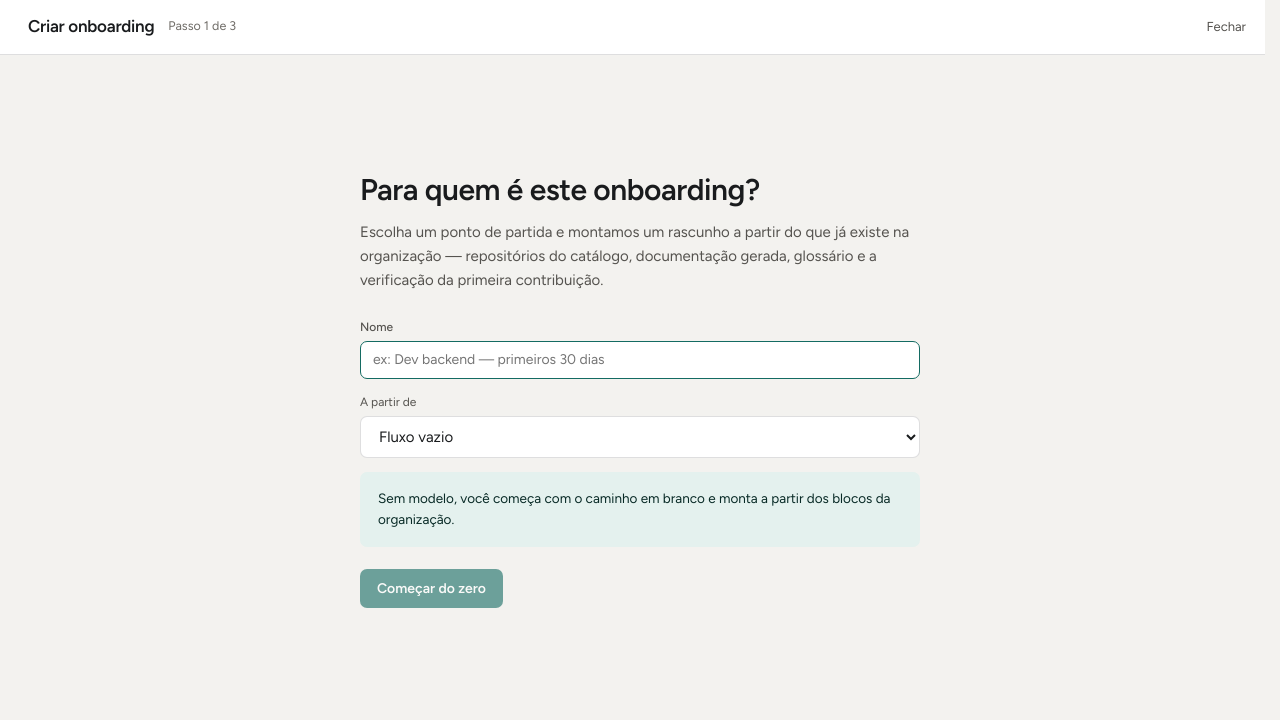
OnboardingComposer › adds a step from the block library
In the field labelled "Nome": (640,360) [360,341,920,379], type "Dev backend — 30 dias"
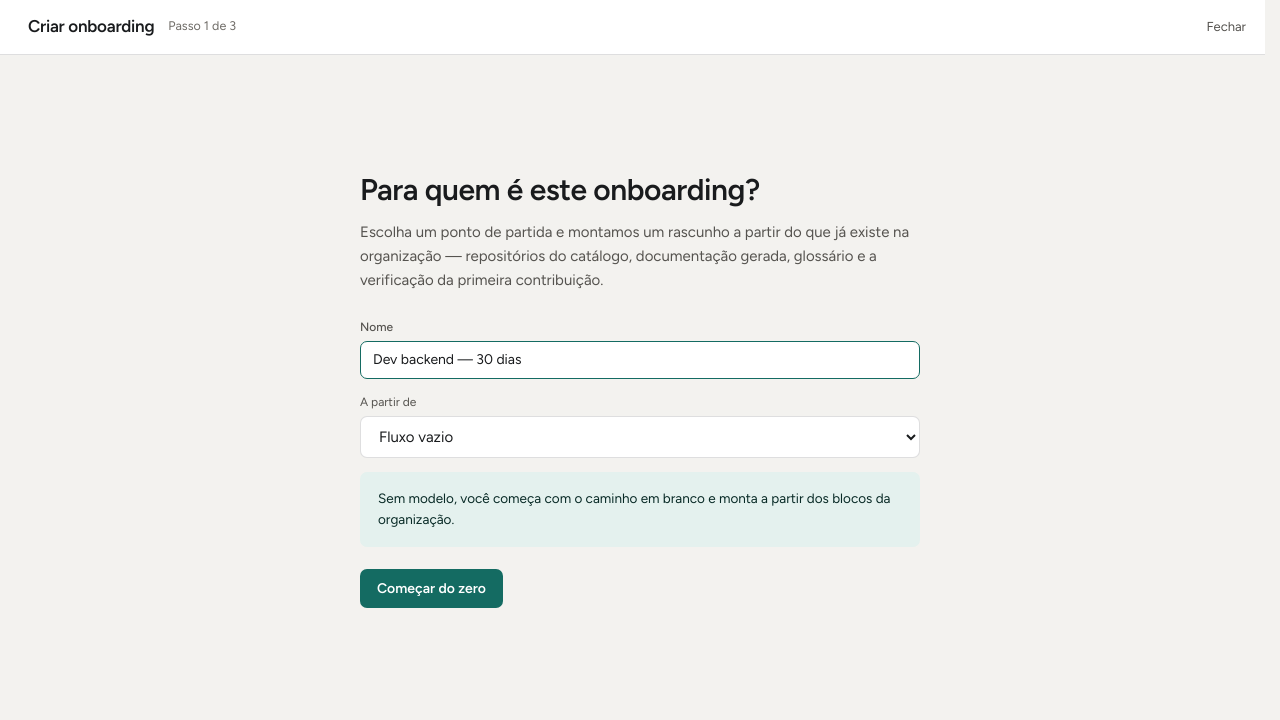
Select "Dev backend" in the dropdown labelled "A partir de": (640,437) [360,416,920,458]
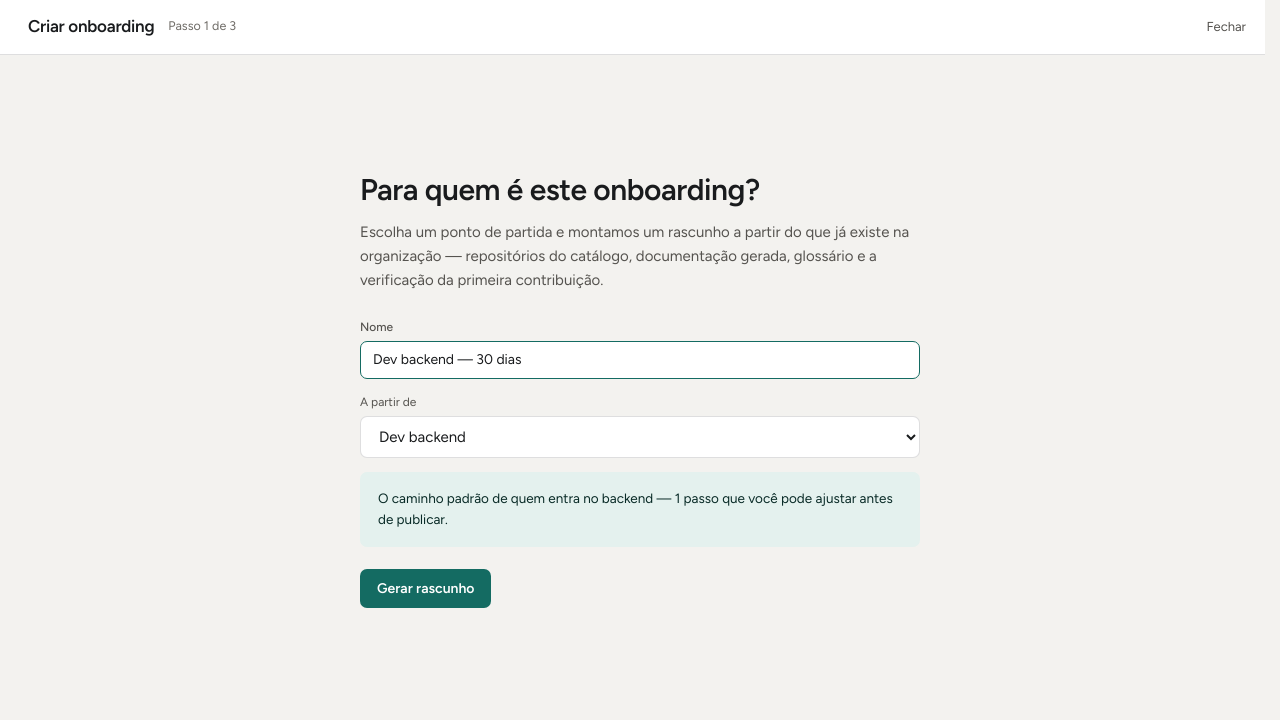
Click the button "Gerar rascunho": (426,588) [360,569,492,608]
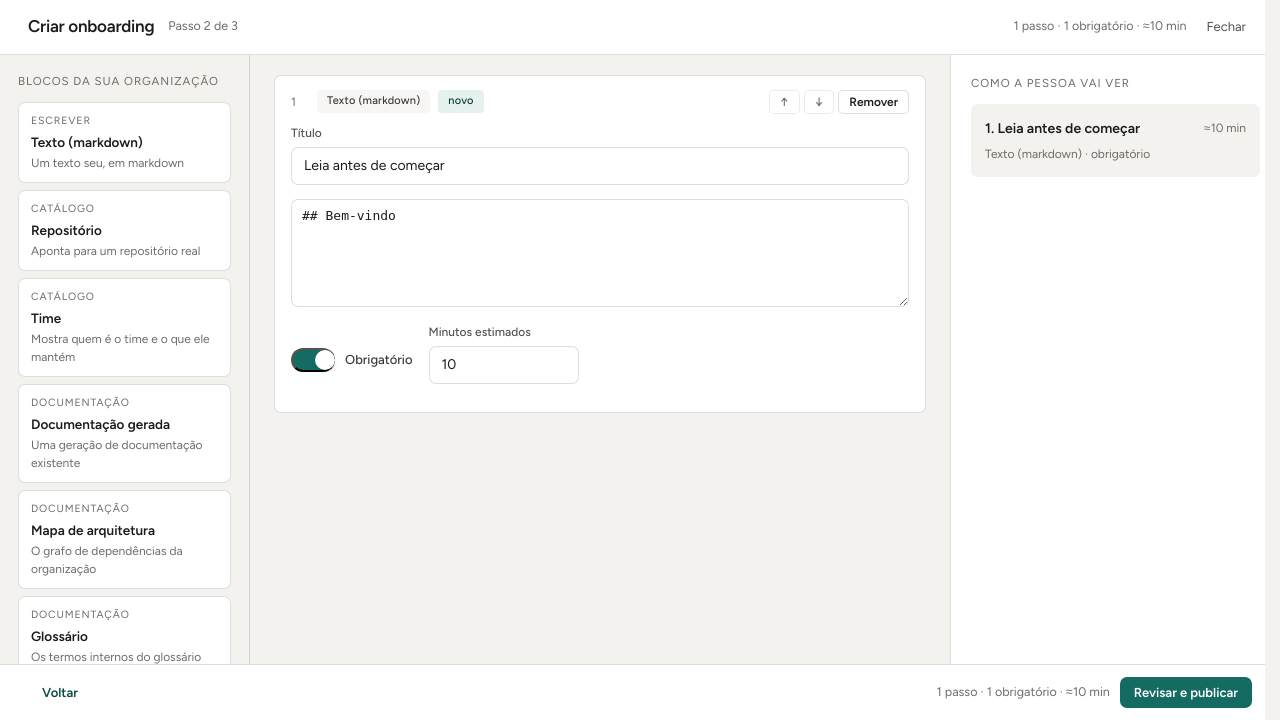
Click the button with aria-label "Adicionar Repositório": (124,230) [18,190,231,271]
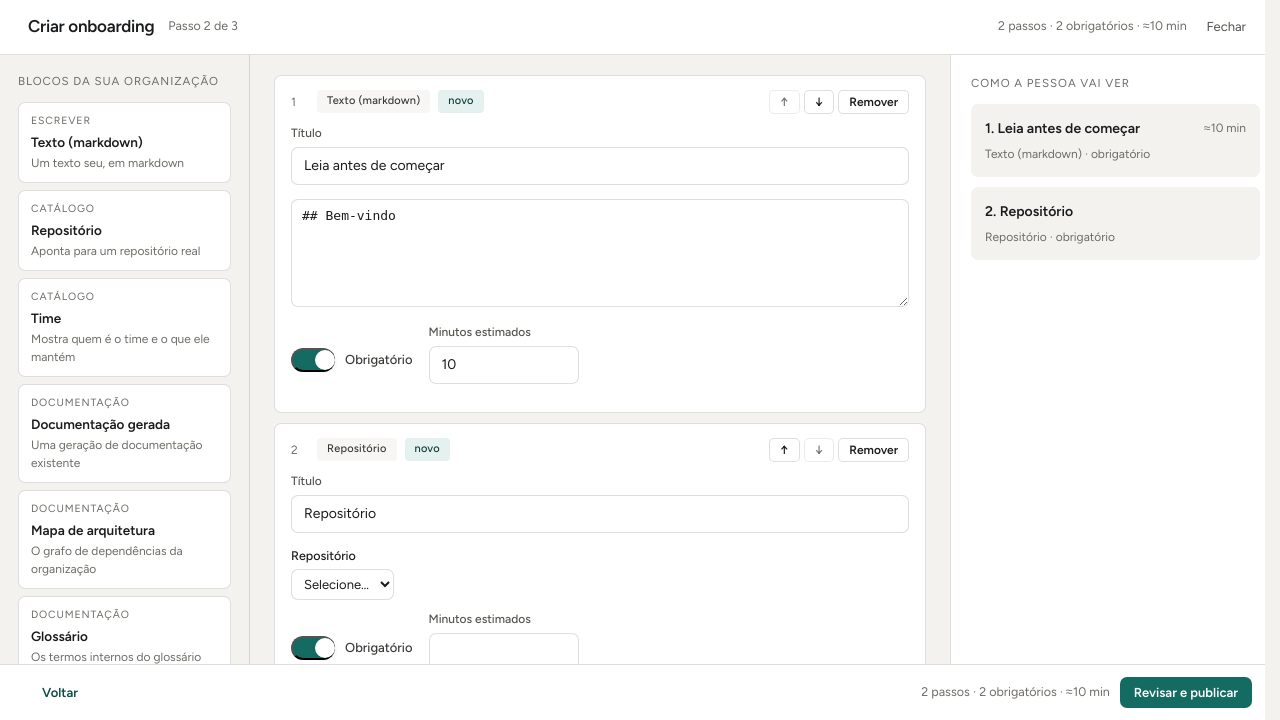
Result: the text "2. Repositório" is shown at [985,201,1073,222]
